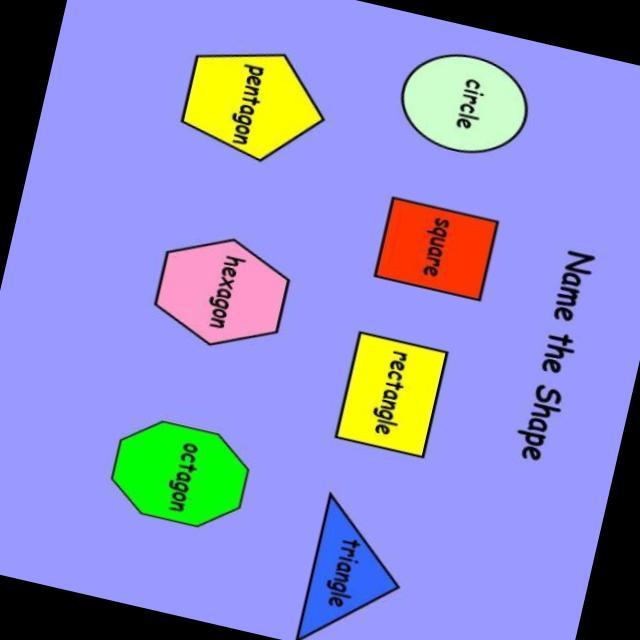circle: (392, 39, 544, 170)
square: (362, 183, 515, 321), (328, 317, 456, 474)
triangle: (287, 479, 411, 640)
